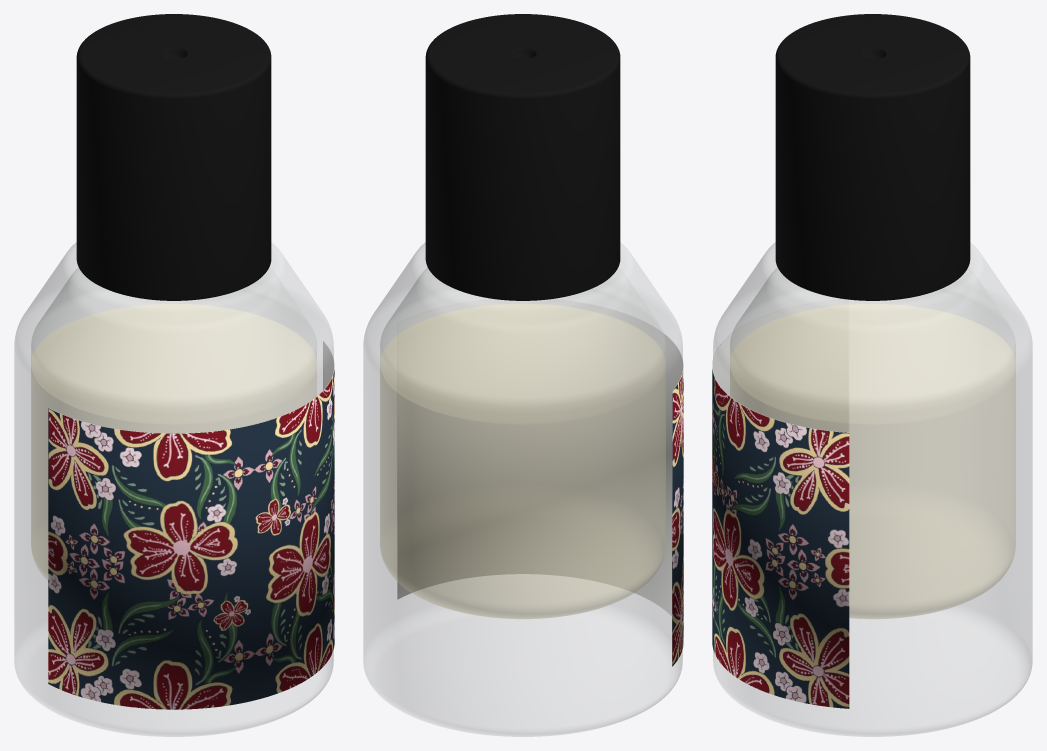
Rendered from seroja.glb.
3 views of the same model, side by side, from view 1: azimuth 30°, elevation 25°; view 2: azimuth 150°, elevation 25°; view 3: azimuth 270°, elevation 25° (orthographic).
Parts seen in each view (by area): view 1: Bottle_Label, Bottle_Glass, Cap_Main, Perfume_Liquid; view 2: Bottle_Glass, Perfume_Liquid, Bottle_Label, Cap_Main; view 3: Bottle_Glass, Perfume_Liquid, Cap_Main, Bottle_Label.
Part boxes in pixels (x1,y1,x2,y2): Bottle_Label: (48, 341, 334, 709); Bottle_Glass: (14, 242, 333, 736); Cap_Main: (76, 14, 271, 300); Perfume_Liquid: (31, 304, 316, 579); Bottle_Glass: (363, 242, 682, 736); Perfume_Liquid: (380, 304, 665, 618); Bottle_Label: (397, 299, 683, 666); Cap_Main: (425, 14, 620, 300); Bottle_Glass: (713, 242, 1032, 736); Perfume_Liquid: (730, 304, 1015, 618); Cap_Main: (775, 14, 970, 300); Bottle_Label: (712, 299, 849, 708).
Bounding box in the file's own units: 0.042 × 0.09 × 0.0421.
Materials: 6 (1 with a texture image).
